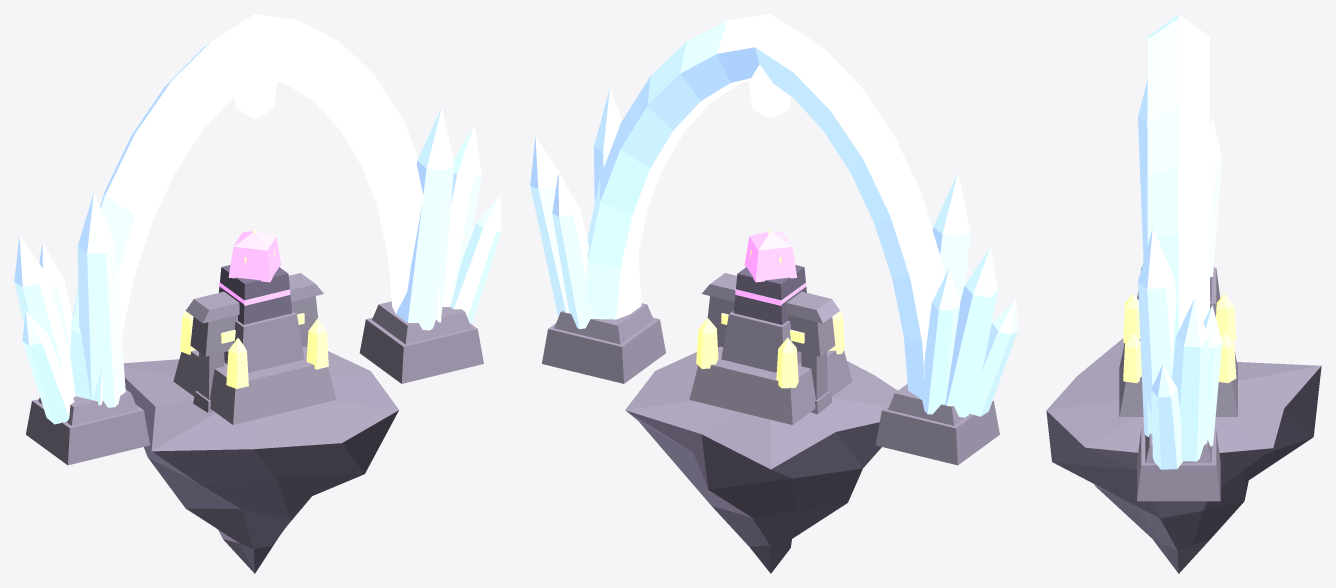
Rendered from props.glb.
3 views of the same model, side by side, from view 1: azimuth 30°, elevation 25°; view 2: azimuth 150°, elevation 25°; view 3: azimuth 270°, elevation 25° (orthographic).
Visible parts, largest first — view 1: CrystalPortal, FloatingIsland, ObstacleArch, ObstacleMonolith; view 2: CrystalPortal, FloatingIsland, ObstacleArch, ObstacleMonolith; view 3: CrystalPortal, FloatingIsland.
Boxes of the visible parts, x1,y1,x2,y2 form: CrystalPortal: (14, 14, 501, 465); FloatingIsland: (123, 230, 398, 573); ObstacleArch: (185, 273, 323, 412); ObstacleMonolith: (219, 231, 292, 324); CrystalPortal: (530, 14, 1017, 465); FloatingIsland: (625, 230, 897, 573); ObstacleArch: (702, 273, 839, 414); ObstacleMonolith: (733, 231, 806, 324); CrystalPortal: (1137, 14, 1222, 501); FloatingIsland: (1046, 293, 1321, 573).
Bounding box in the file's own units: 10.09 × 11.38 × 5.11.
